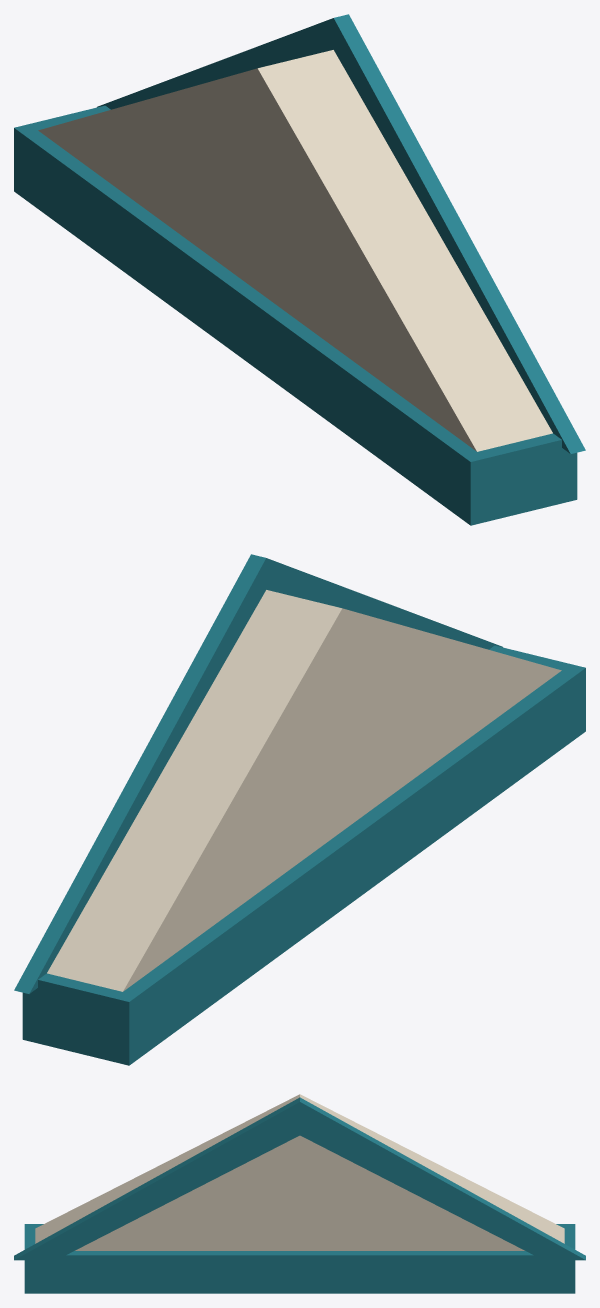
Rendered from pediment.glb.
3 views of the same model, one above another, from view 1: azimuth 30°, elevation 25°; view 2: azimuth 150°, elevation 25°; view 3: azimuth 270°, elevation 25° (orthographic). The views are drawn at different scales.
Parts seen in each view (by area): view 1: pediment; view 2: pediment; view 3: pediment.
Part boxes in pixels (x1=…): pediment: x1=14, y1=14, x2=585, y2=525; pediment: x1=14, y1=554, x2=585, y2=1065; pediment: x1=14, y1=1094, x2=585, y2=1293.
Size of the model in its own units: 0.14 by 0.4 by 1.08.
